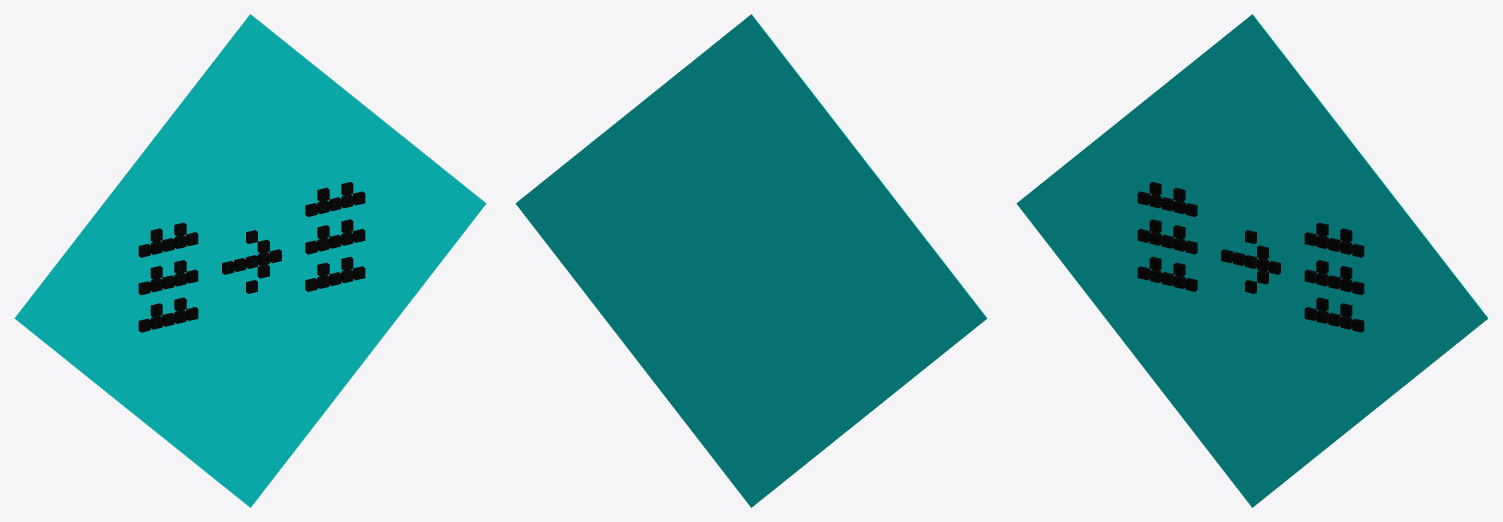
Rendered from MakeCopyOfSetCoin.fbx.
3 views of the same model, side by side, from view 1: azimuth 30°, elevation 25°; view 2: azimuth 150°, elevation 25°; view 3: azimuth 330°, elevation 25° (orthographic).
Parts seen in each view (by area): view 1: Cube.001; view 2: Cube.001; view 3: Cube.001.
Boxes of the visible parts, x1,y1,x2,y2 form: Cube.001: (14, 14, 486, 507); Cube.001: (515, 14, 987, 507); Cube.001: (1016, 14, 1488, 507).
Size of the model in its own units: 198 by 198 by 2.1.
